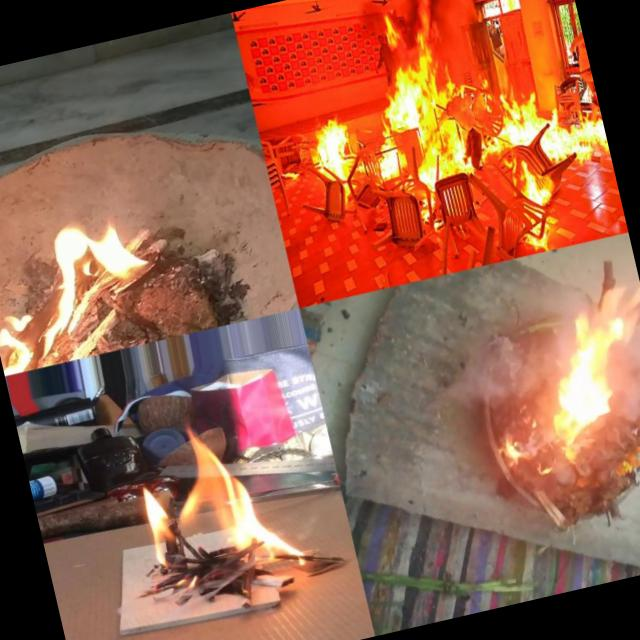fire: (0, 190, 191, 375), (125, 402, 303, 591), (368, 44, 464, 146), (408, 125, 504, 198), (539, 99, 611, 171), (308, 104, 360, 182), (490, 81, 545, 153), (504, 150, 556, 218), (362, 116, 403, 186), (374, 7, 404, 52), (521, 220, 556, 254)
smoke: (532, 299, 640, 465), (514, 231, 640, 324), (345, 0, 478, 18)
